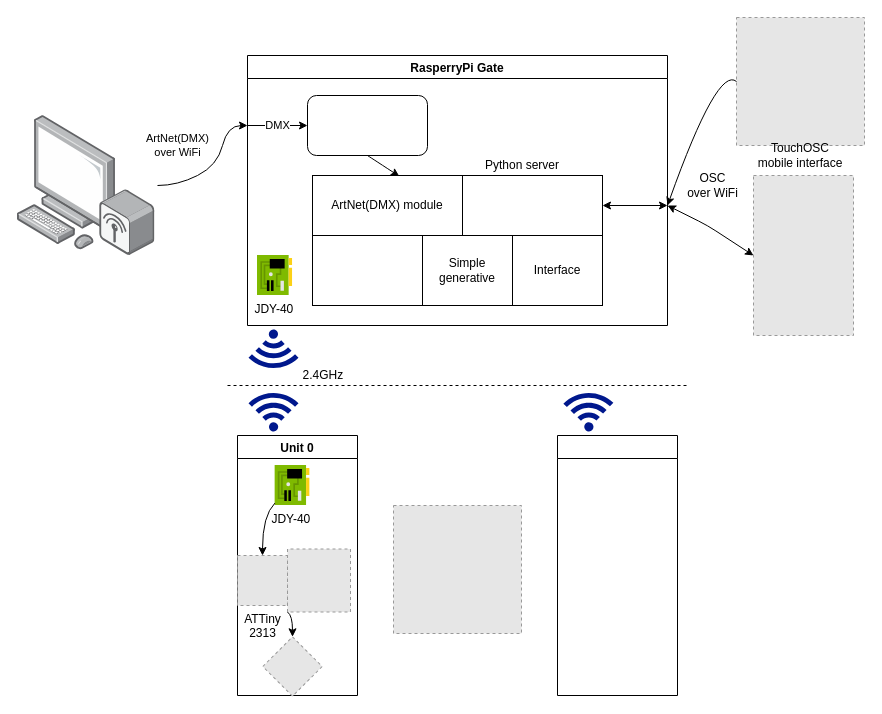
Some shapes in this 882 by 714 pixel diagram are drawn without their labels. Grey dashed boxes stand in for pictures. The centre of each missing label's shape, as x and y in pixels:
Open Lighting Architecture (OLA): the point at 367,125
OpenSoundControl duplex: the point at 532,205
TheObject protocol (UART): the point at 367,270
Unit 19: the point at 617,565
